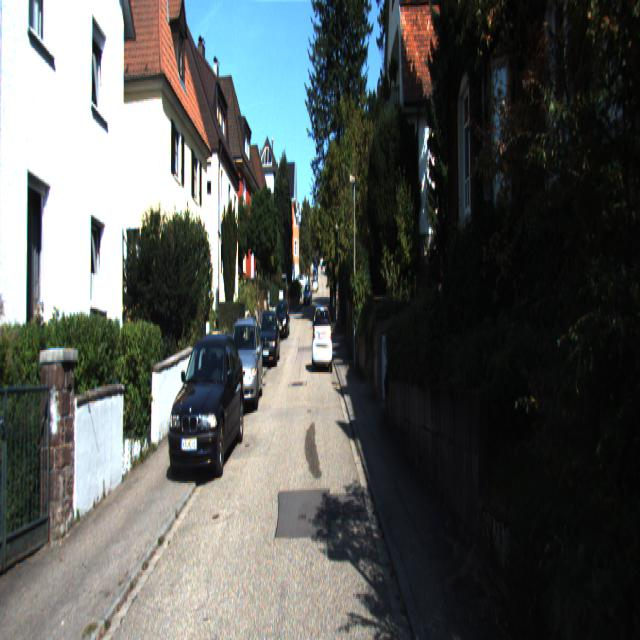Car: (165, 327, 247, 484), (225, 312, 265, 411), (312, 300, 333, 371), (255, 306, 281, 363), (274, 298, 290, 339)
